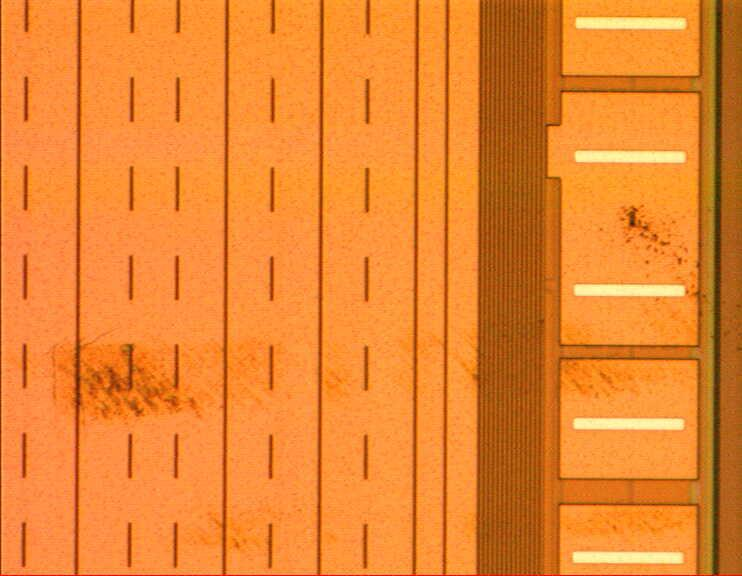SCRATCH: (51, 191, 742, 558)
